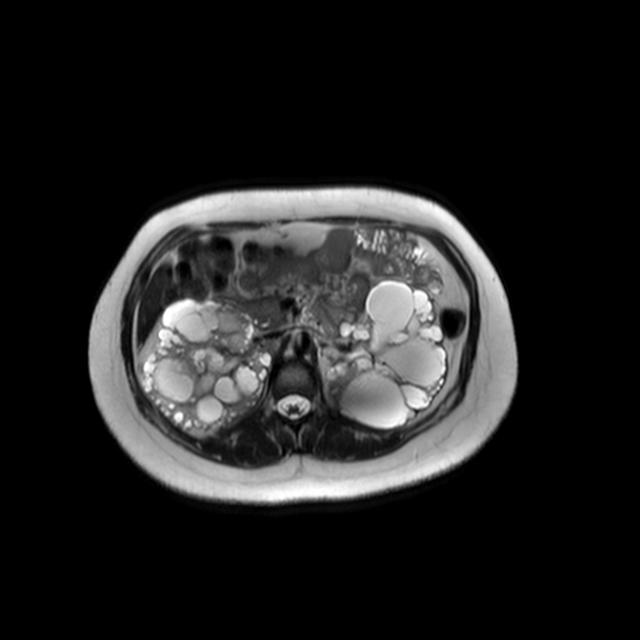sag: (139, 297, 268, 435)
sol: (325, 278, 450, 431)
